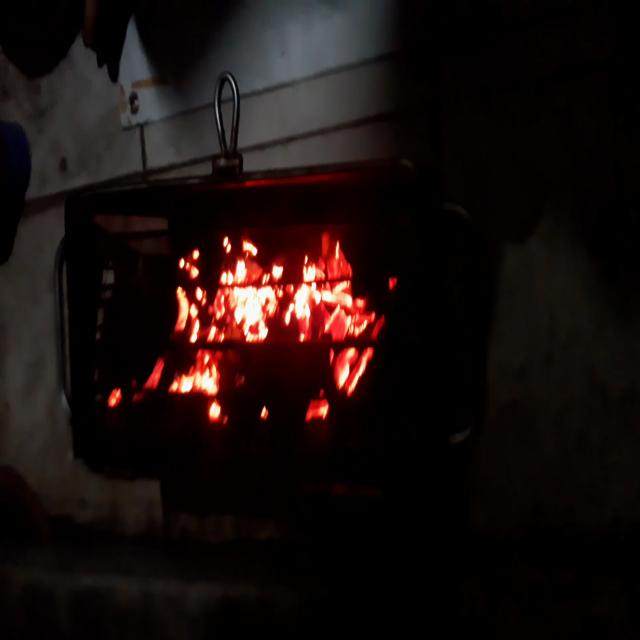Fire: (86, 225, 406, 448)
